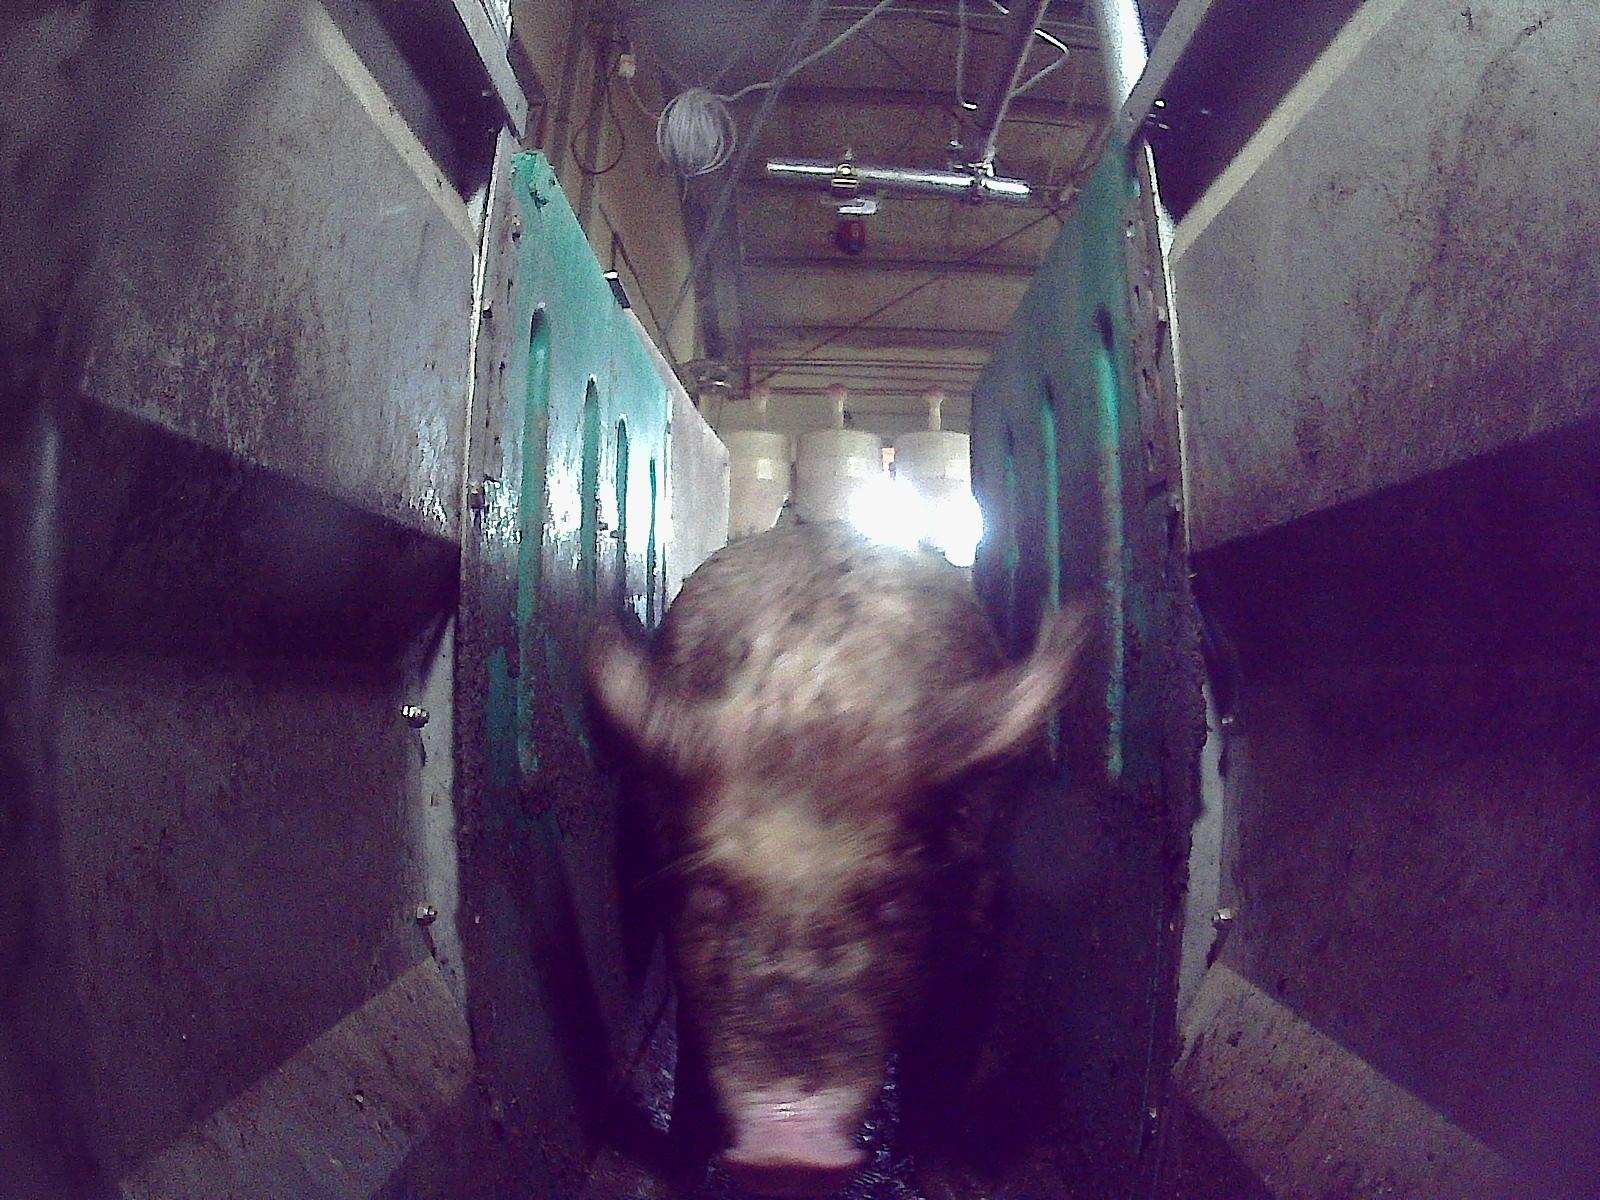Face: (665, 717, 944, 1193)
